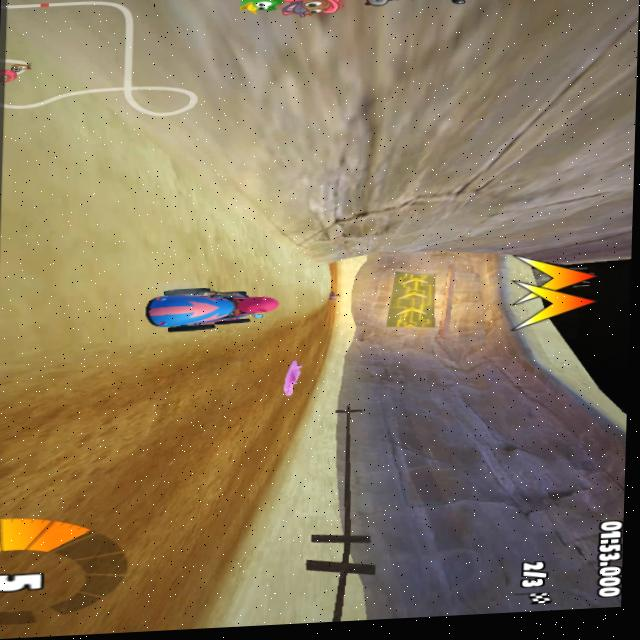track: (116, 334, 252, 587), (0, 371, 108, 519), (254, 339, 279, 498), (311, 305, 333, 376), (279, 327, 306, 360), (289, 399, 306, 433)
